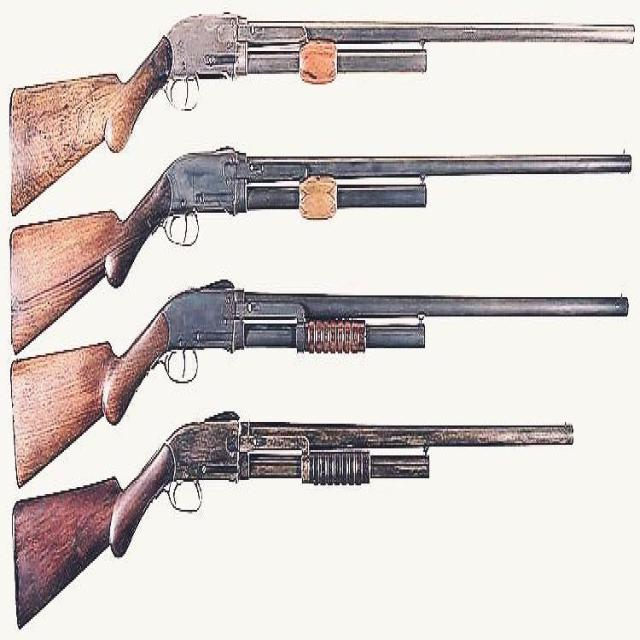ShotGun: (11, 281, 630, 487), (10, 149, 634, 353), (10, 14, 637, 215), (12, 413, 575, 628)
